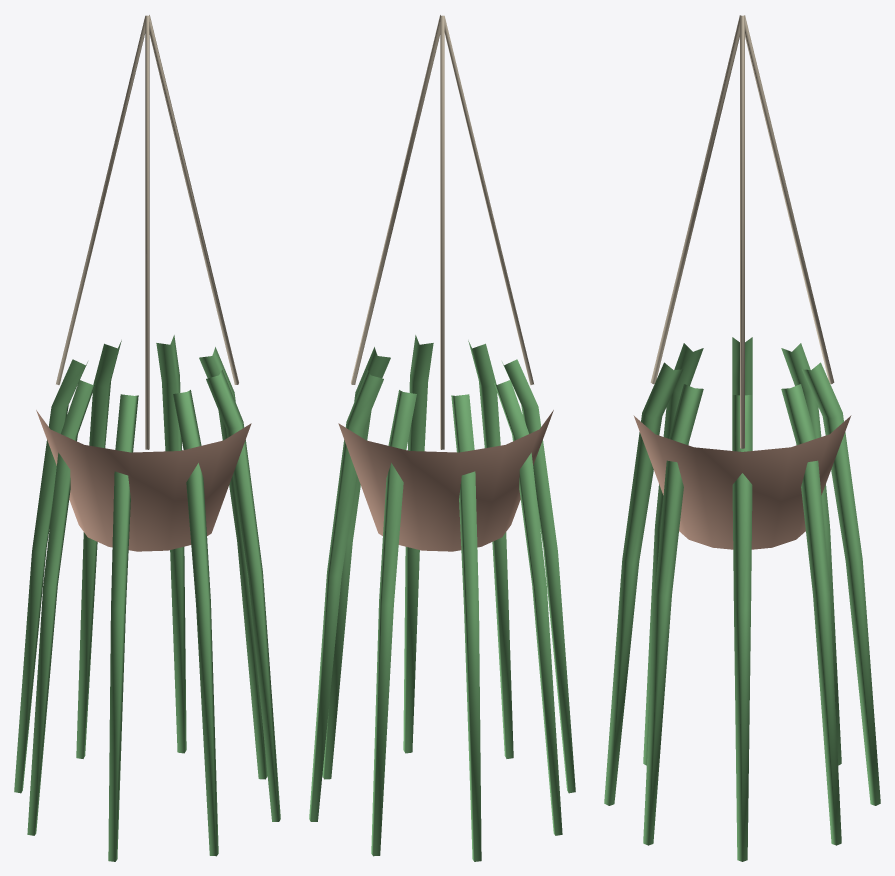
The model's file is plant_hanging.glb.
3 views of the same model, side by side, from view 1: azimuth 30°, elevation 25°; view 2: azimuth 150°, elevation 25°; view 3: azimuth 270°, elevation 25° (orthographic).
Visible parts, largest first — view 1: plant_hanging; view 2: plant_hanging; view 3: plant_hanging.
Boxes of the visible parts, x1,y1,x2,y2 form: plant_hanging: [14, 15, 280, 861]; plant_hanging: [309, 15, 575, 861]; plant_hanging: [604, 15, 880, 861].
Bounding box in the file's own units: 0.322 × 1.01 × 0.322.
